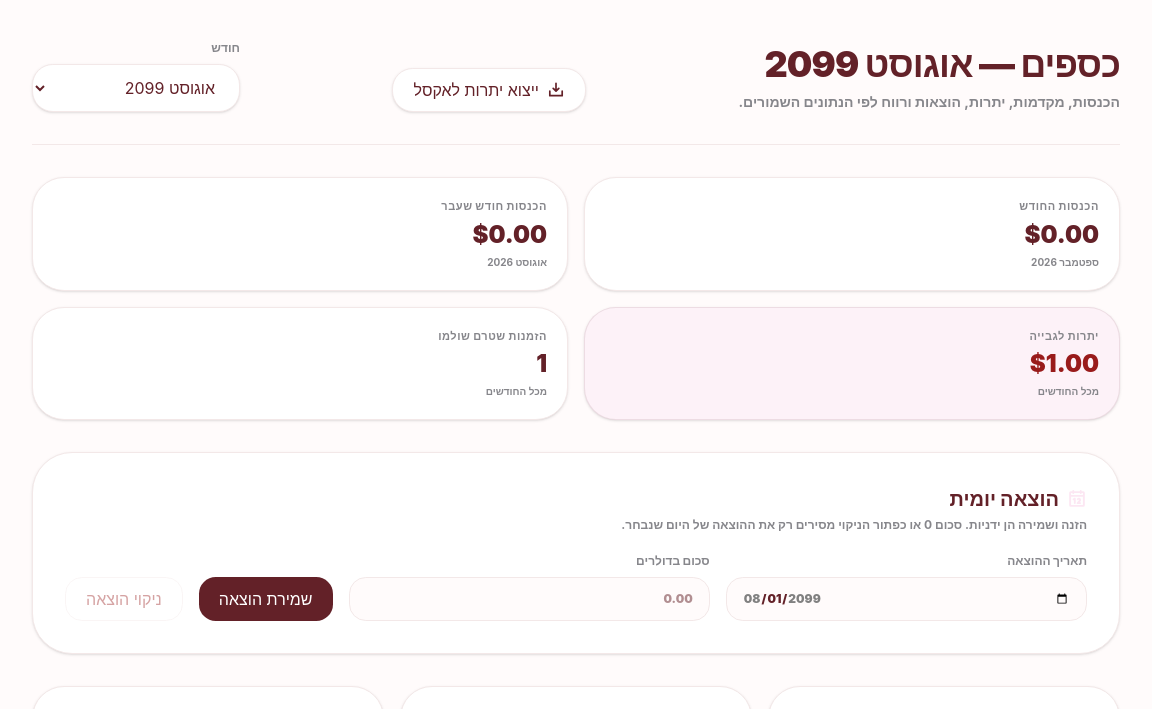
Test: FinanceScreen › does not claim persistence when the injected save boundary is absent
Type "5.00" into the field named "סכום ההוצאה בדולרים".
click(529, 599); type("5.00")  # box [348,577,710,621]
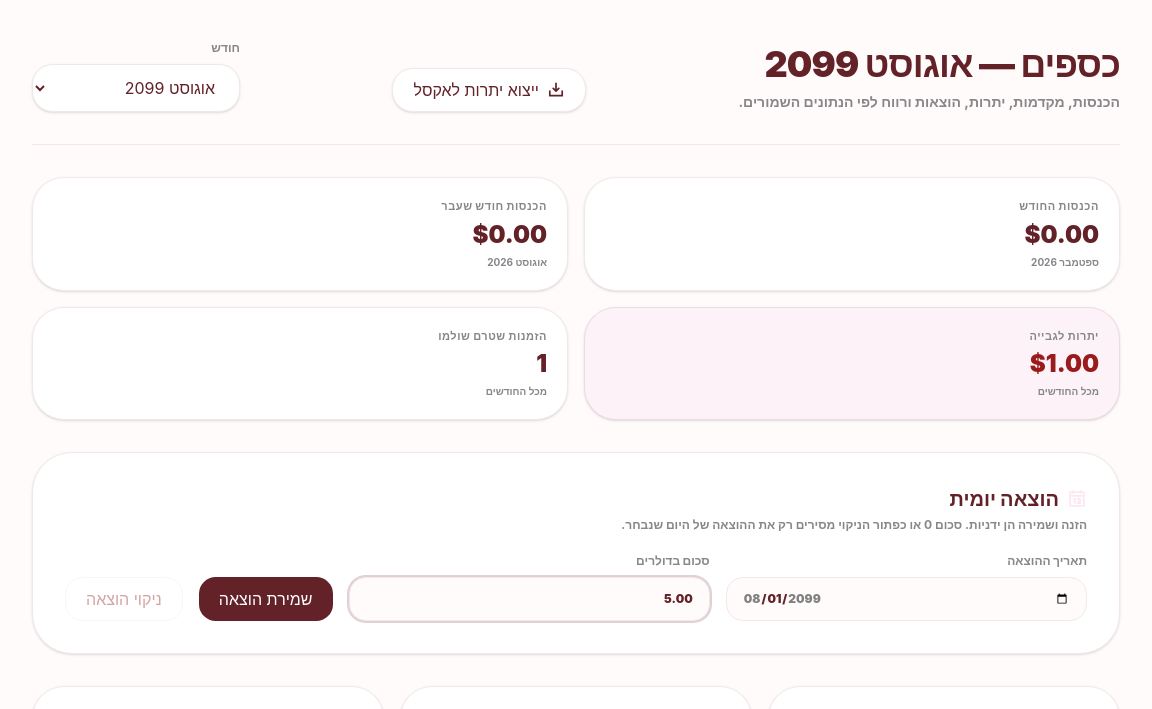
Click the button "שמירת הוצאה".
click(266, 599)  # box [199,577,332,621]
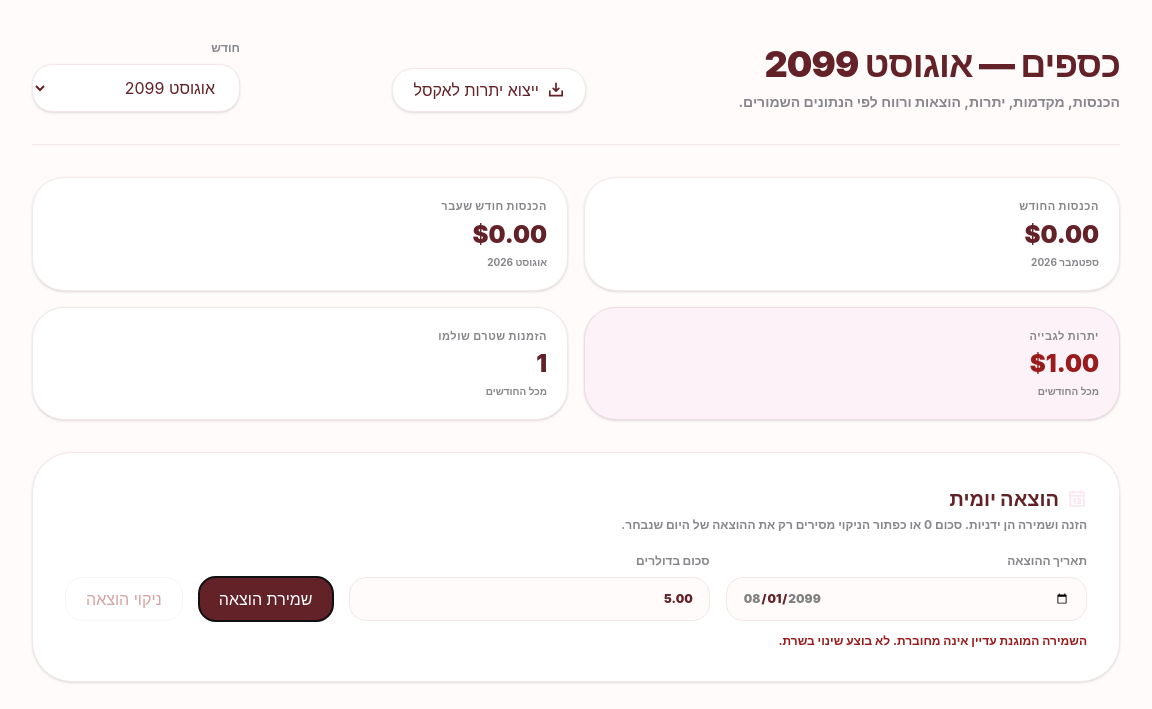
Expected: the message shows "לא בוצע שינוי בשרת", [778,633,1087,648]
